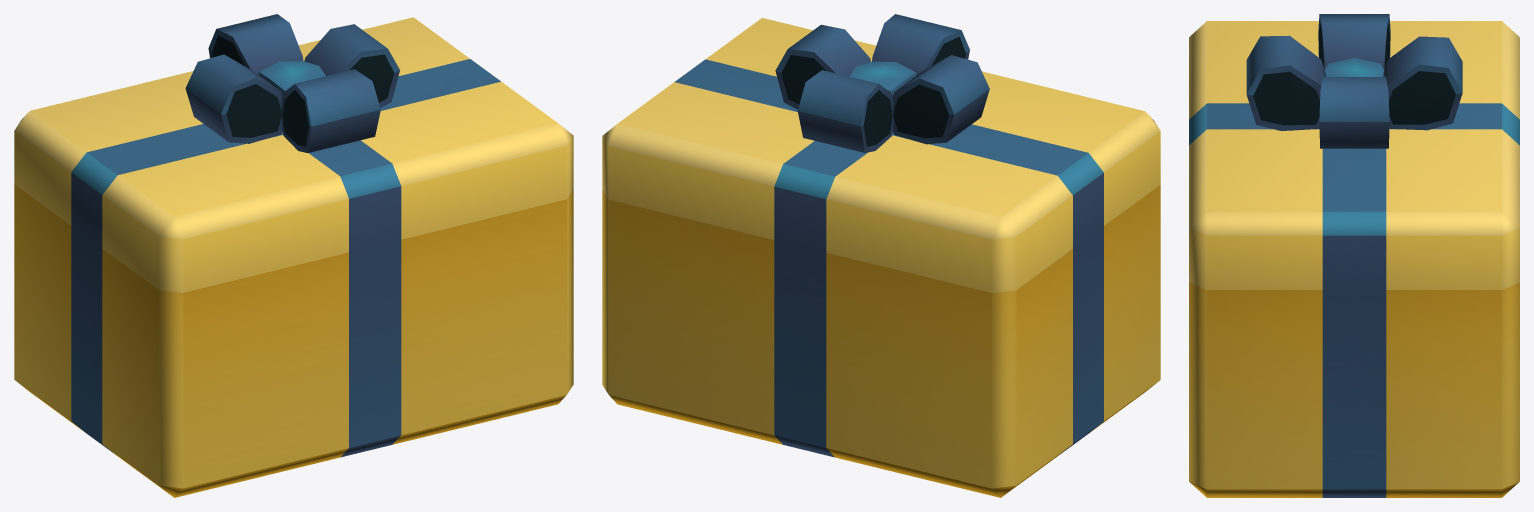
The model's file is presi_square_1_yellow.fbx.
The picture shows the model from 3 angles, left to right: view 1: azimuth 30°, elevation 25°; view 2: azimuth 150°, elevation 25°; view 3: azimuth 270°, elevation 25°; orthographic projection.
Visible parts, largest first — view 1: presi_square_1_yellow; view 2: presi_square_1_yellow; view 3: presi_square_1_yellow.
Boxes of the visible parts, left/top/right/bottom form: presi_square_1_yellow: left=14, top=14, right=573, bottom=497; presi_square_1_yellow: left=602, top=14, right=1160, bottom=497; presi_square_1_yellow: left=1189, top=14, right=1519, bottom=497.
Size of the model in its own units: 156 by 124 by 106.
1 material, 1 textured.
